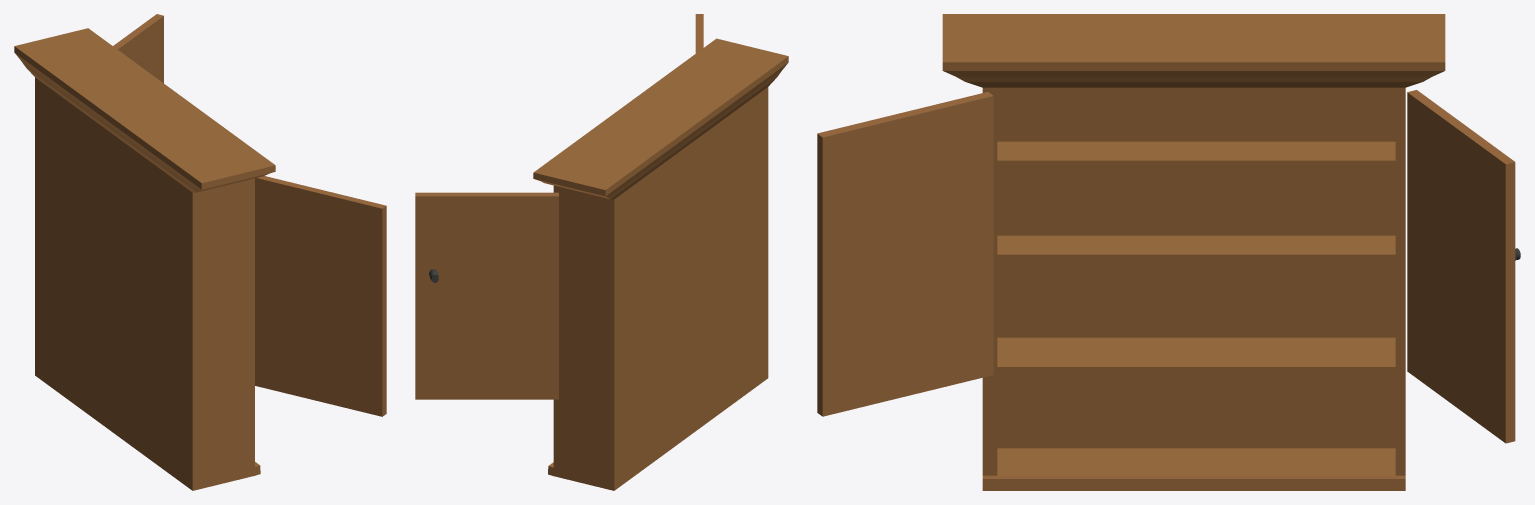
Rendered from wall cup board.fbx.
3 views of the same model, side by side, from view 1: azimuth 30°, elevation 25°; view 2: azimuth 150°, elevation 25°; view 3: azimuth 270°, elevation 25° (orthographic). The views are drawn at different scales.
Visible parts, largest first — view 1: Cube, Cube.002, Cube.003; view 2: Cube, Cube.003; view 3: Cube, Cube.002, Cube.003.
Part boxes in pixels (x1,y1,x2,y2): Cube: (14,28,275,490); Cube.002: (255,176,386,416); Cube.003: (113,14,163,83); Cube: (533,38,788,490); Cube.003: (415,192,558,399); Cube: (942,14,1445,490); Cube.002: (817,92,993,416); Cube.003: (1407,90,1515,443).
Bounding box in the file's own units: 414 × 735 × 1092.
